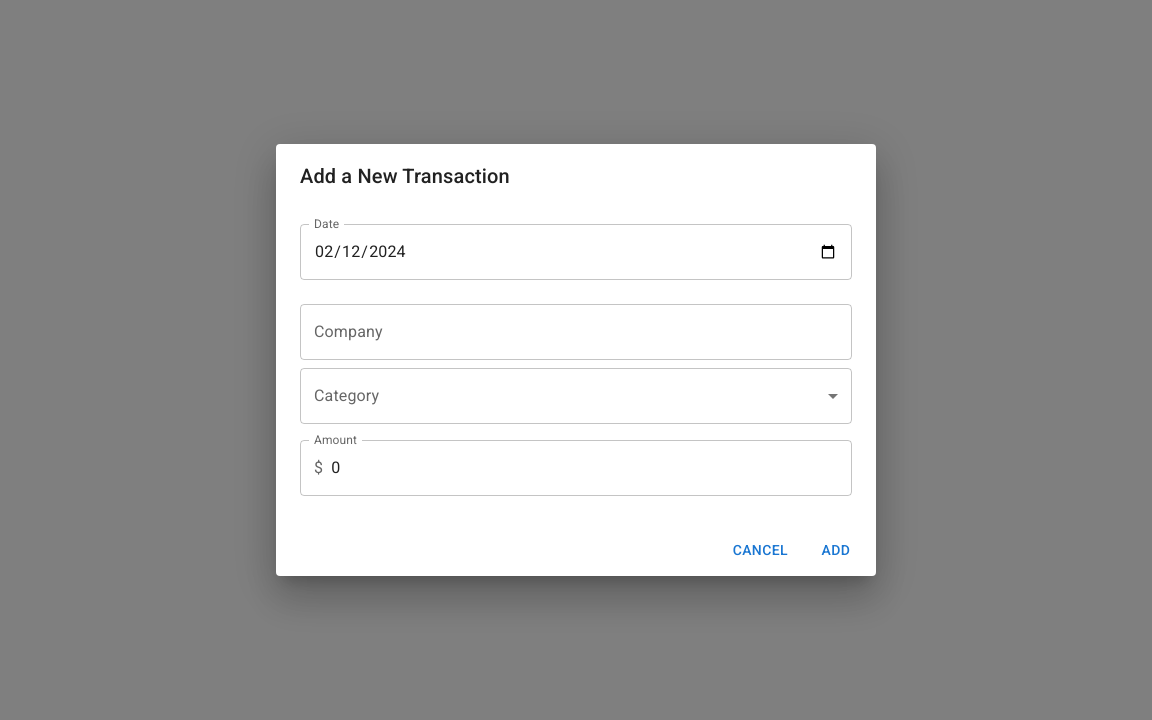
it: CreateTransaction component › updates state when input values change
The width and height of the screenshot is (1152, 720).
Step 1. Type "2022-01-01" into the date field labelled "Date" → (576,252), box [300, 224, 852, 280]
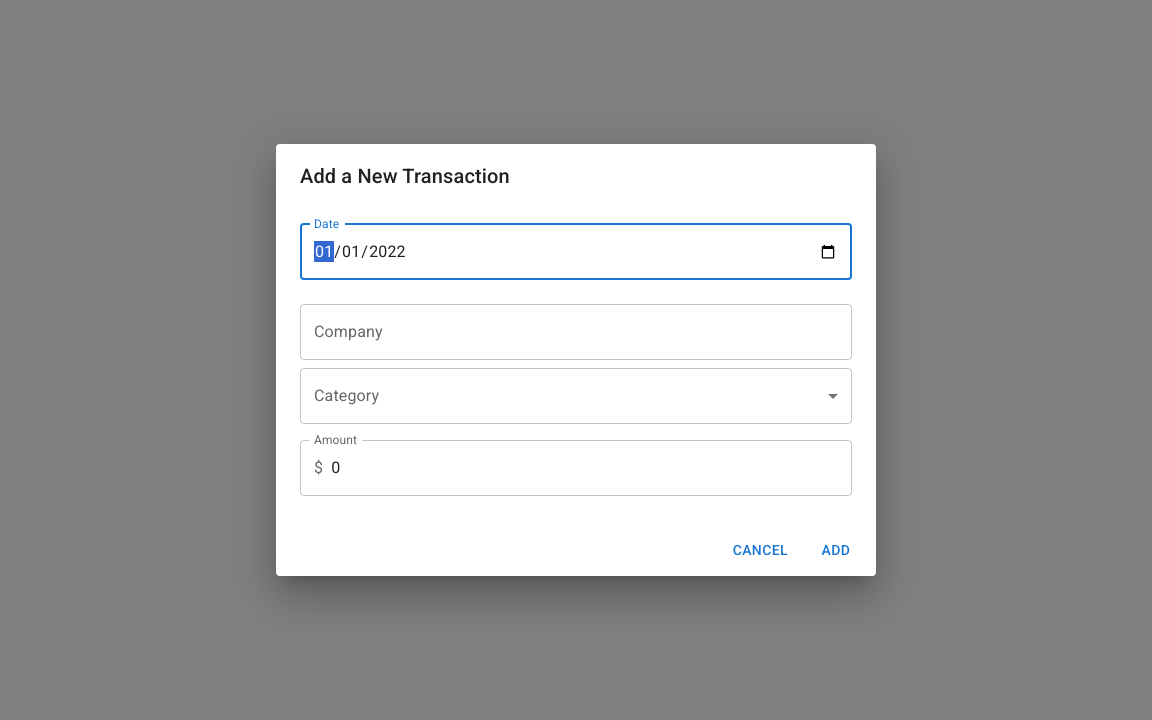
Step 2. Type "Test Company" into the field labelled "Company" → (576,332), box [300, 304, 852, 360]
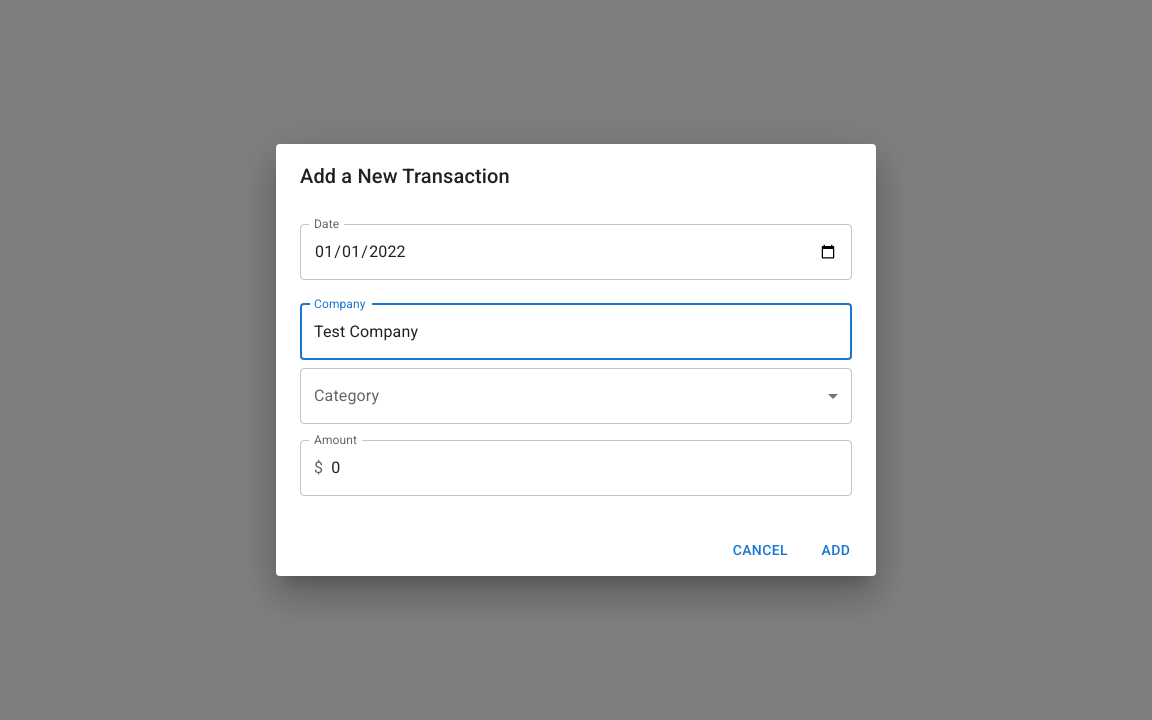
Step 3. Type "100" into the number field labelled "Amount" → (592,468), box [331, 440, 852, 496]
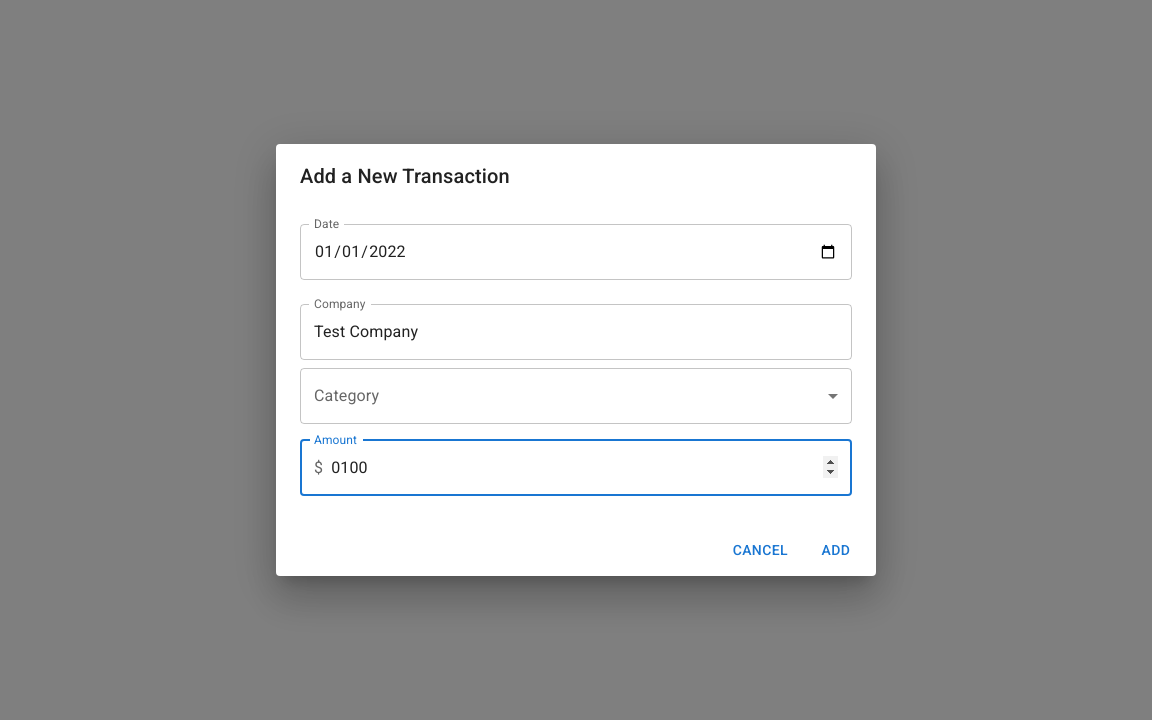
Expected: the number field labelled "Amount" holds "100", [331, 440, 852, 496]
